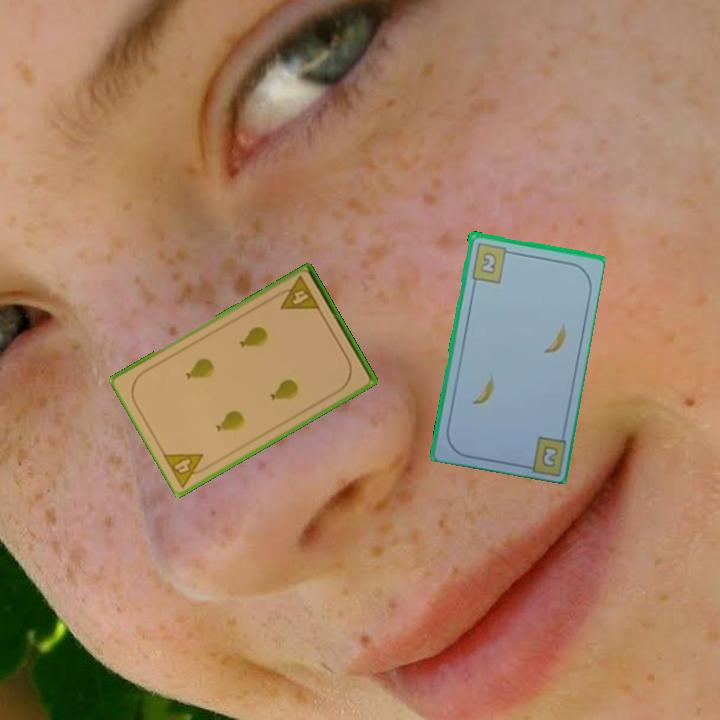2b: (467, 239, 515, 285), (538, 441, 561, 470)
4p: (160, 450, 214, 490), (272, 273, 323, 313)
